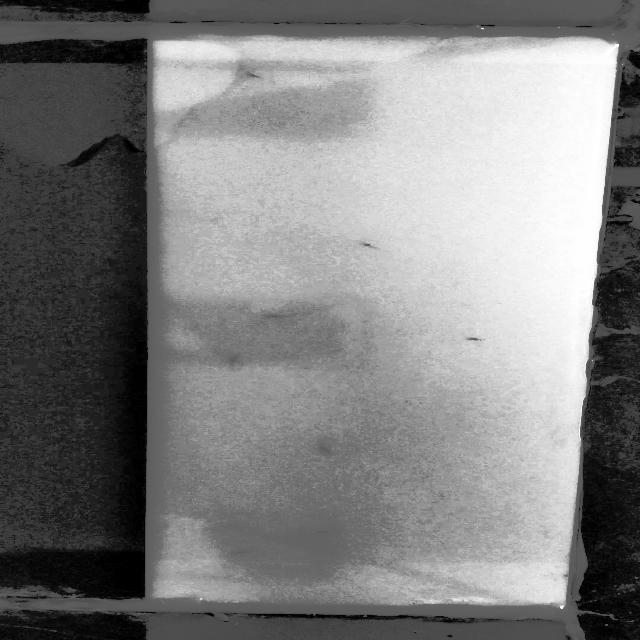shrimp: (247, 67, 286, 85), (250, 307, 295, 322), (354, 237, 384, 256), (308, 524, 337, 537), (459, 332, 487, 344), (316, 440, 336, 456), (228, 549, 272, 556), (223, 354, 244, 366)
